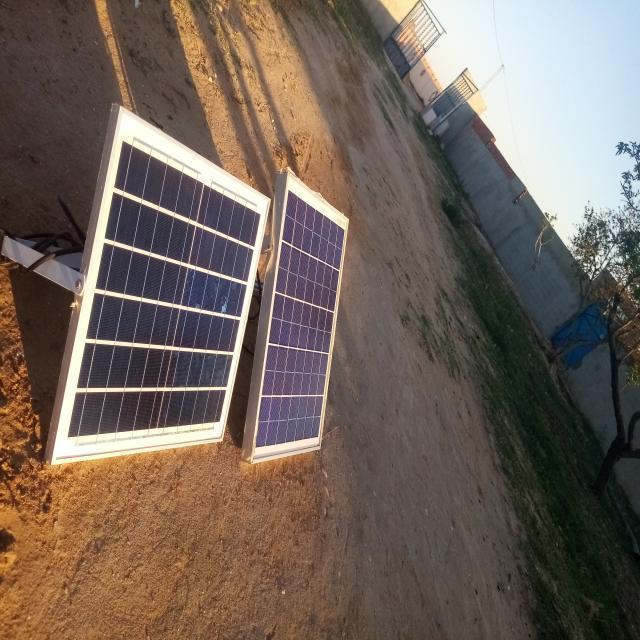Normal Solar Panel: (52, 109, 269, 464), (250, 175, 349, 461)
